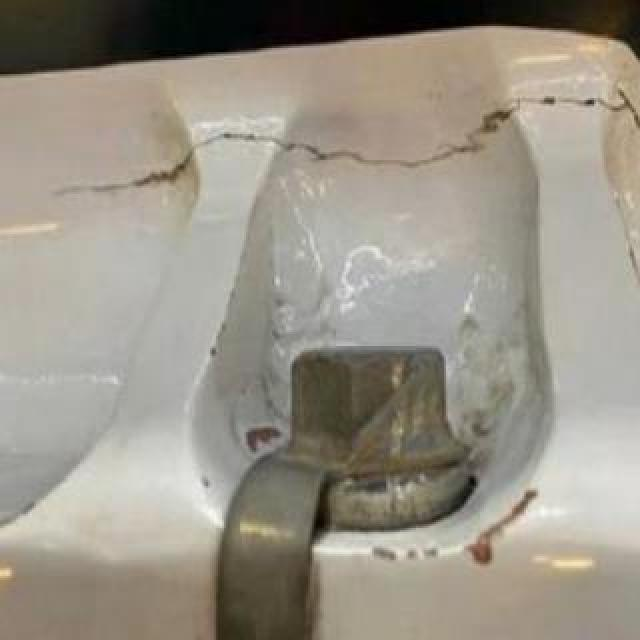crack: (51, 77, 640, 207)
